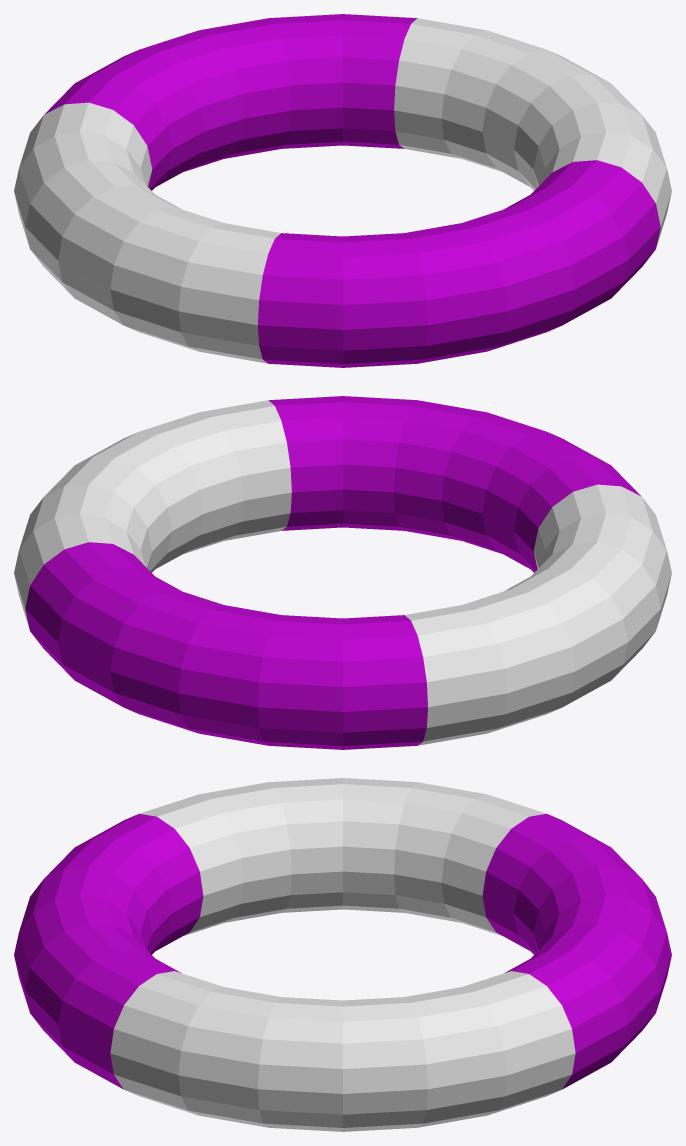
The model's file is LifeRingPinkFBX.fbx.
3 views of the same model, one above another, from view 1: azimuth 30°, elevation 25°; view 2: azimuth 150°, elevation 25°; view 3: azimuth 270°, elevation 25° (orthographic).
Parts seen in each view (by area): view 1: LifeRing; view 2: LifeRing; view 3: LifeRing.
Boxes of the visible parts, x1,y1,x2,y2 form: LifeRing: [14, 14, 671, 367]; LifeRing: [14, 396, 671, 749]; LifeRing: [14, 778, 671, 1131].
Size of the model in its own units: 2.5 by 0.5 by 2.5.
